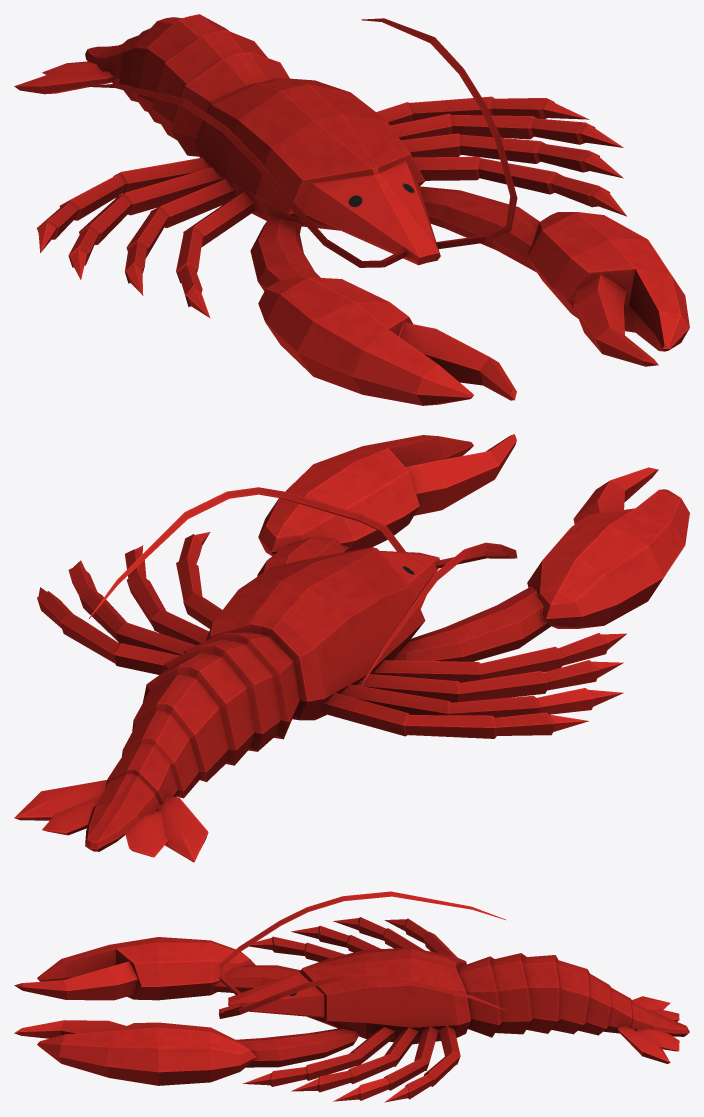
The model's file is Lobster.obj.
The picture shows the model from 3 angles, top to bottom: view 1: azimuth 30°, elevation 25°; view 2: azimuth 150°, elevation 25°; view 3: azimuth 270°, elevation 25°; orthographic projection. The views are drawn at different scales.
Visible parts, largest first — view 1: Lobster_mesh; view 2: Lobster_mesh; view 3: Lobster_mesh.
Part boxes in pixels (x1,y1,x2,y2): Lobster_mesh: (14, 14, 689, 405); Lobster_mesh: (14, 434, 689, 862); Lobster_mesh: (14, 891, 689, 1102).
Bounding box in the file's own units: 4.19 × 1.12 × 6.55.
Materials: 1 (1 with a texture image).
